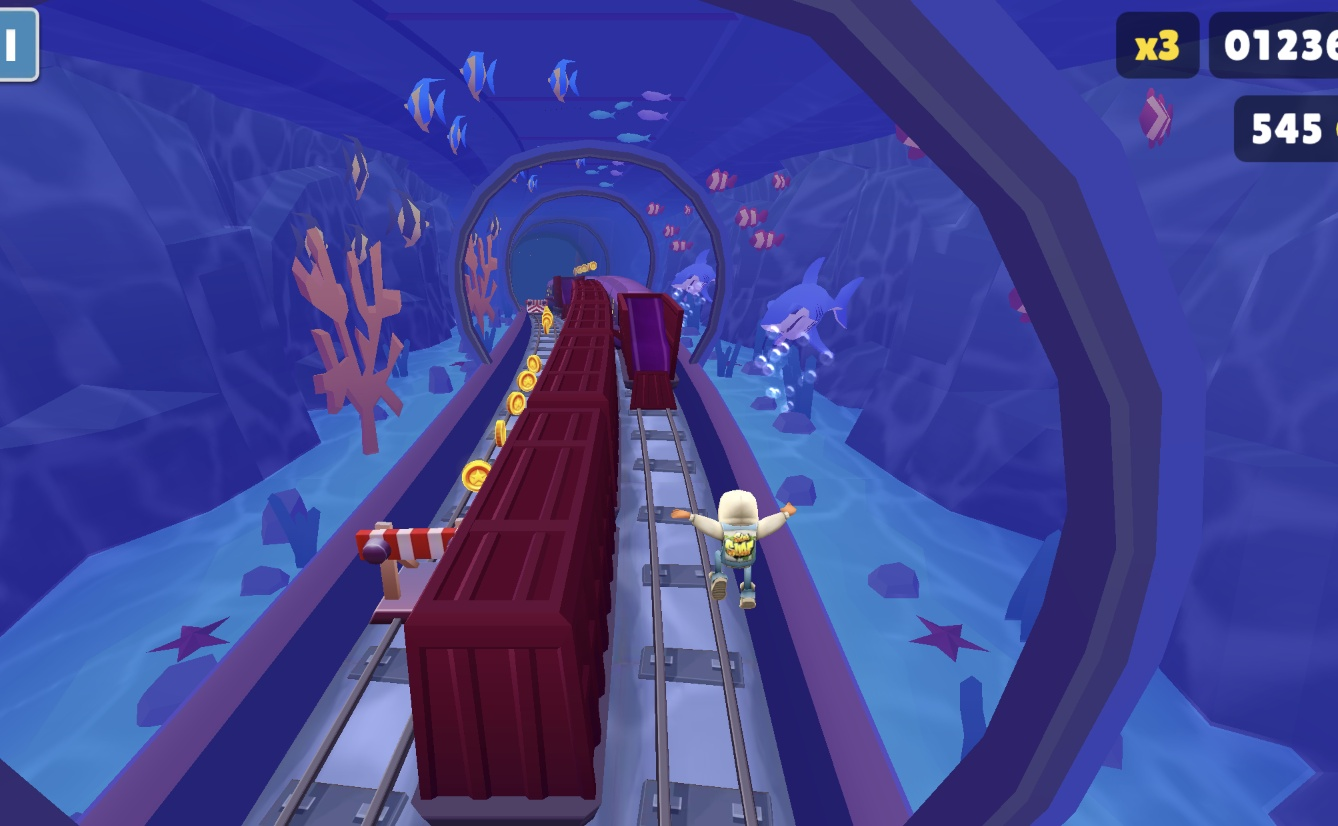overhead_barrier: (352, 522, 454, 626)
train: (394, 279, 617, 811), (607, 297, 681, 409)
